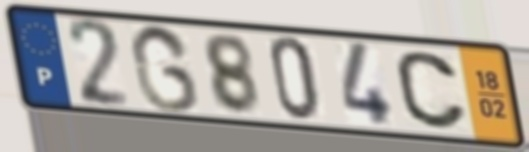0: (267, 35, 327, 125)
2: (65, 13, 134, 112)
4: (339, 37, 396, 132)
8: (201, 30, 264, 118)
C: (392, 48, 471, 133)
G: (127, 21, 203, 116)
